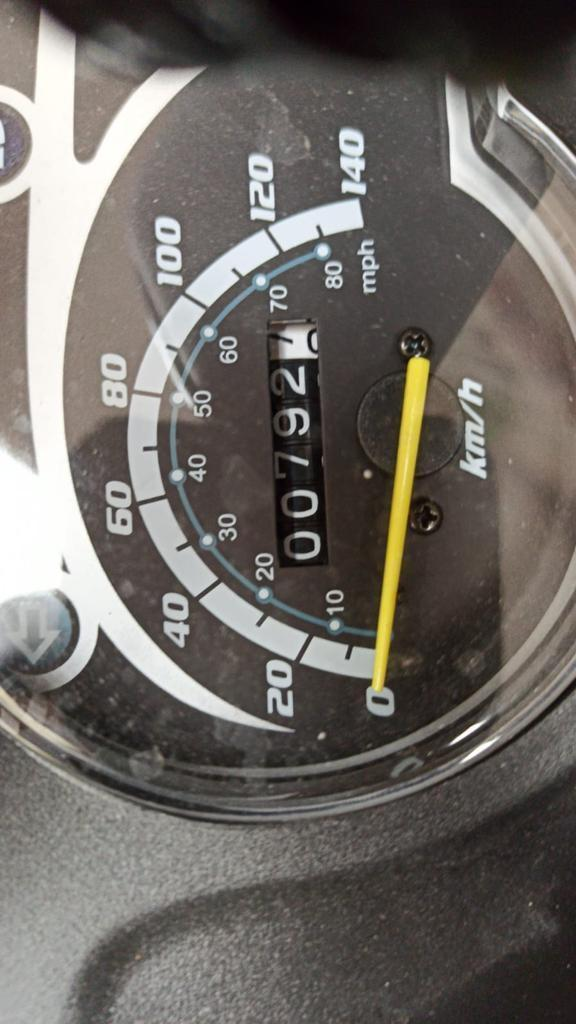0: (276, 487, 321, 520), (280, 528, 323, 561), (258, 551, 274, 567)
2: (268, 364, 312, 399)
7: (271, 448, 313, 481), (266, 328, 297, 359)
9: (270, 406, 313, 438)
odometer: (257, 312, 337, 572)
